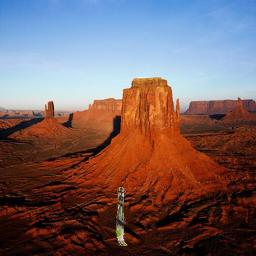Cuckoo: (116, 187, 128, 246)
